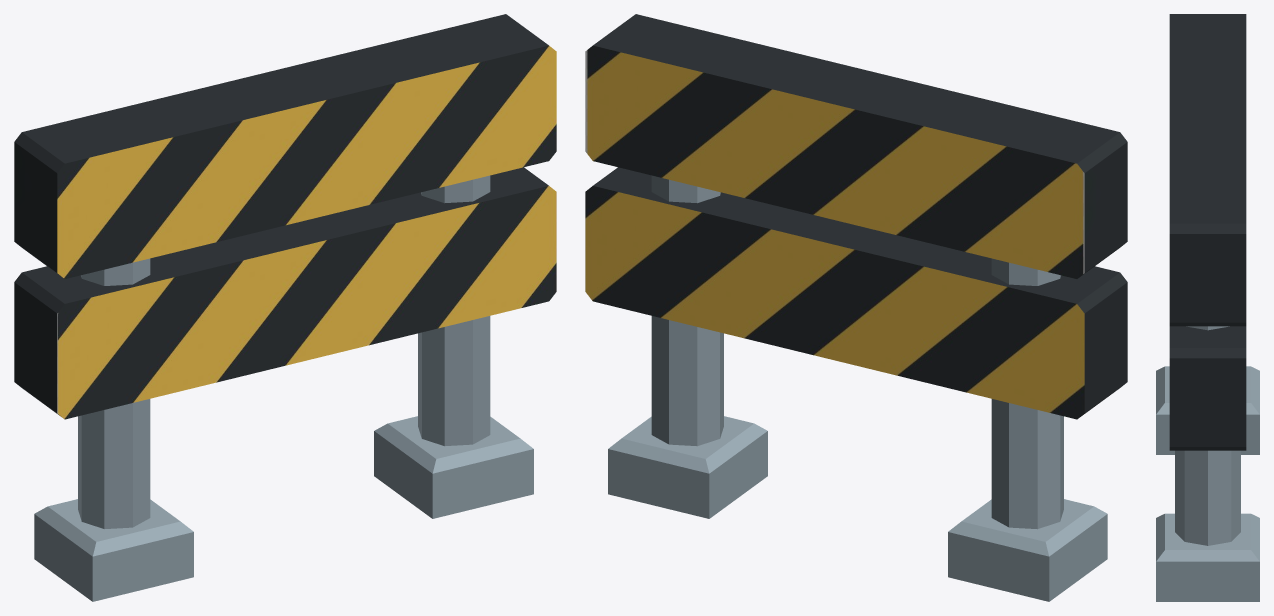
Rendered from Construction_Barriers.fbx.
3 views of the same model, side by side, from view 1: azimuth 30°, elevation 25°; view 2: azimuth 150°, elevation 25°; view 3: azimuth 270°, elevation 25° (orthographic). The views are drawn at different scales.
Visible parts, largest first — view 1: Construction_Barriers; view 2: Construction_Barriers; view 3: Construction_Barriers.
Part boxes in pixels (x1,y1,x2,y2): Construction_Barriers: [14, 14, 556, 601]; Construction_Barriers: [585, 14, 1127, 601]; Construction_Barriers: [1156, 14, 1259, 601].
Size of the model in its own units: 441 by 369 by 89.41.
Materials: 1 (1 with a texture image).
